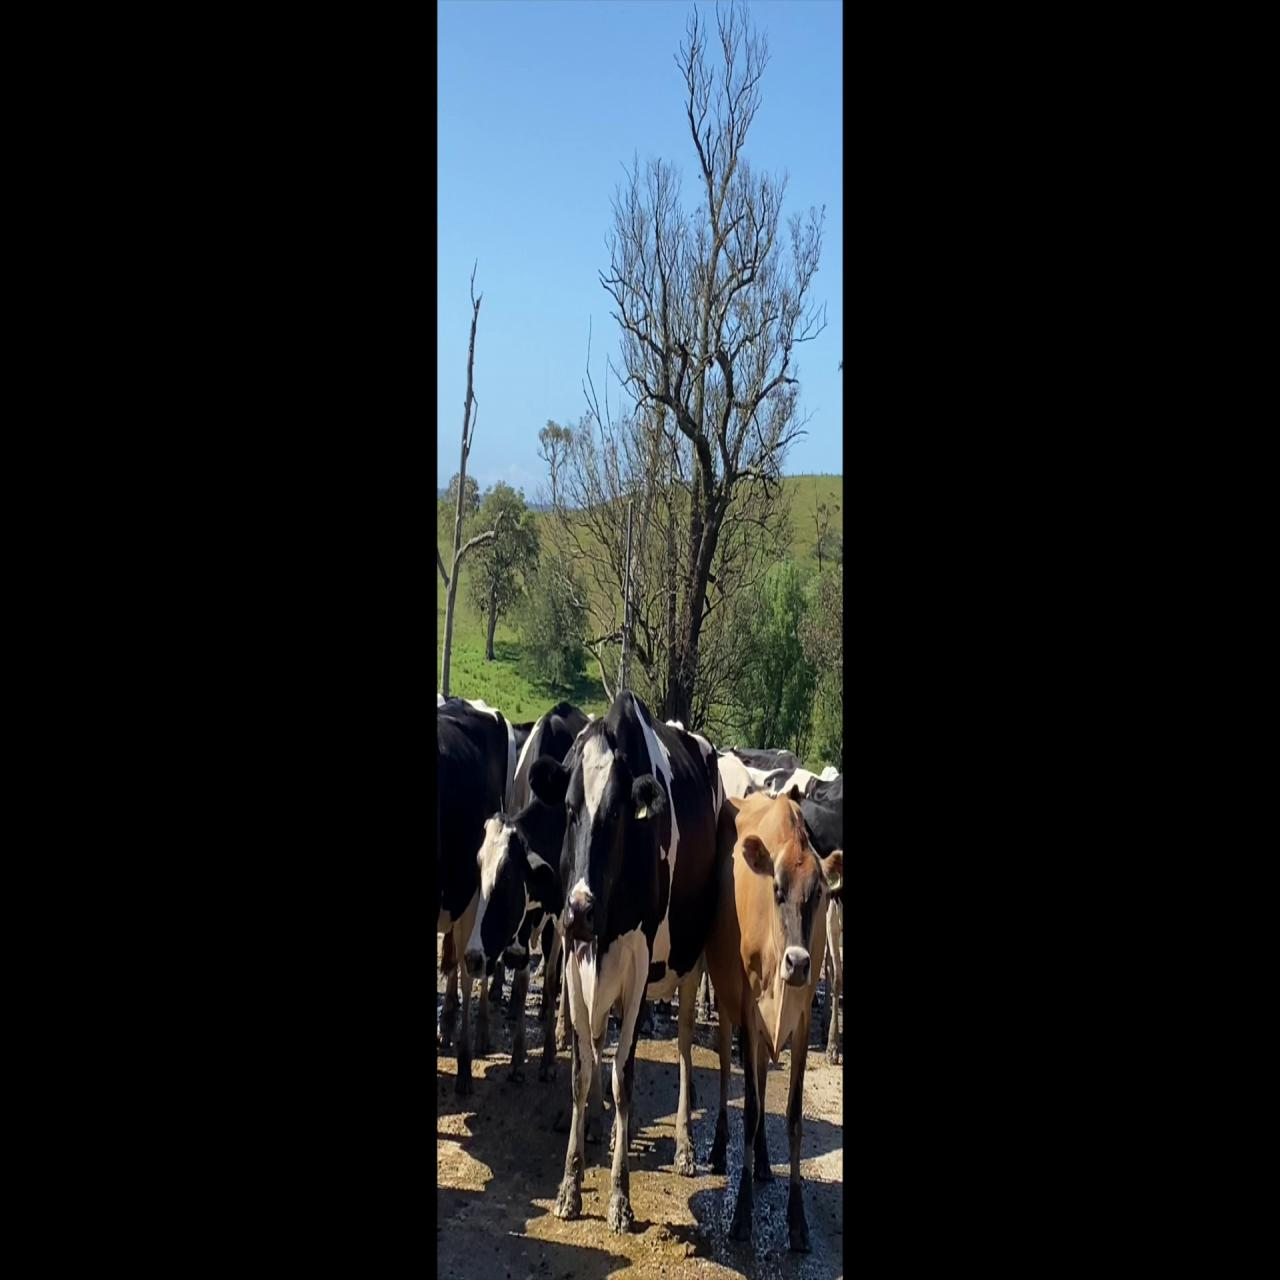Face: (568, 744, 616, 922), (466, 832, 519, 966), (774, 839, 824, 981), (498, 847, 502, 851)
